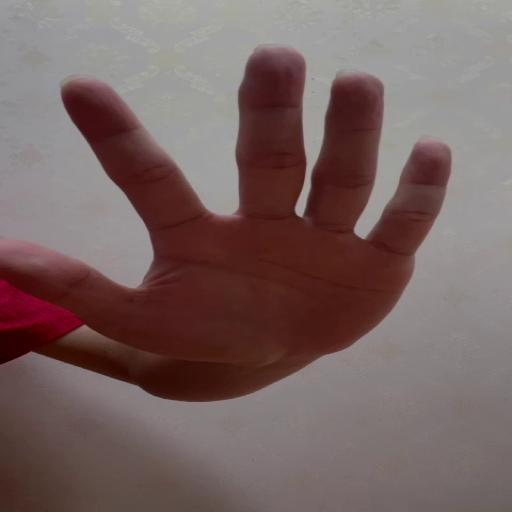open_palm: (2, 43, 455, 361)
